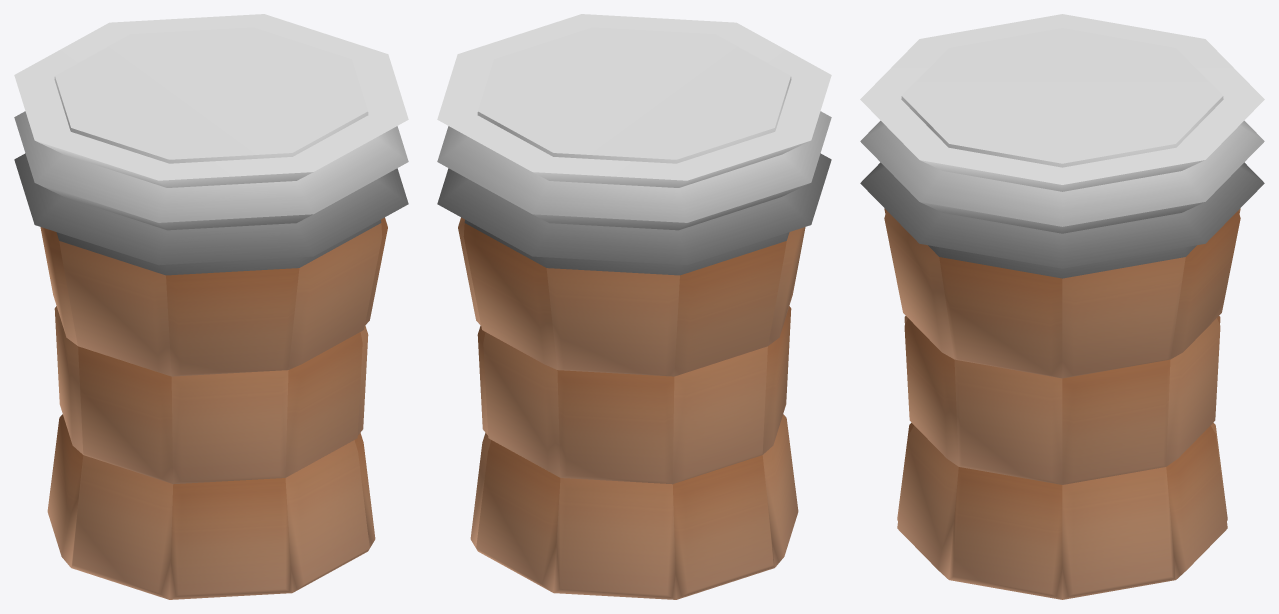
Rendered from stone_grip_049.glb.
3 renders of one model, left to right at view 1: azimuth 30°, elevation 25°; view 2: azimuth 150°, elevation 25°; view 3: azimuth 270°, elevation 25°, orthographic.
Parts seen in each view (by area): view 1: stone_grip.049; view 2: stone_grip.049; view 3: stone_grip.049.
Boxes of the visible parts, <box> form: stone_grip.049: <box>14,14,408,599</box>; stone_grip.049: <box>437,14,831,599</box>; stone_grip.049: <box>860,14,1264,599</box>.
Bounding box in the file's own units: 2.52 × 3 × 2.52.
1 material, 1 textured.
